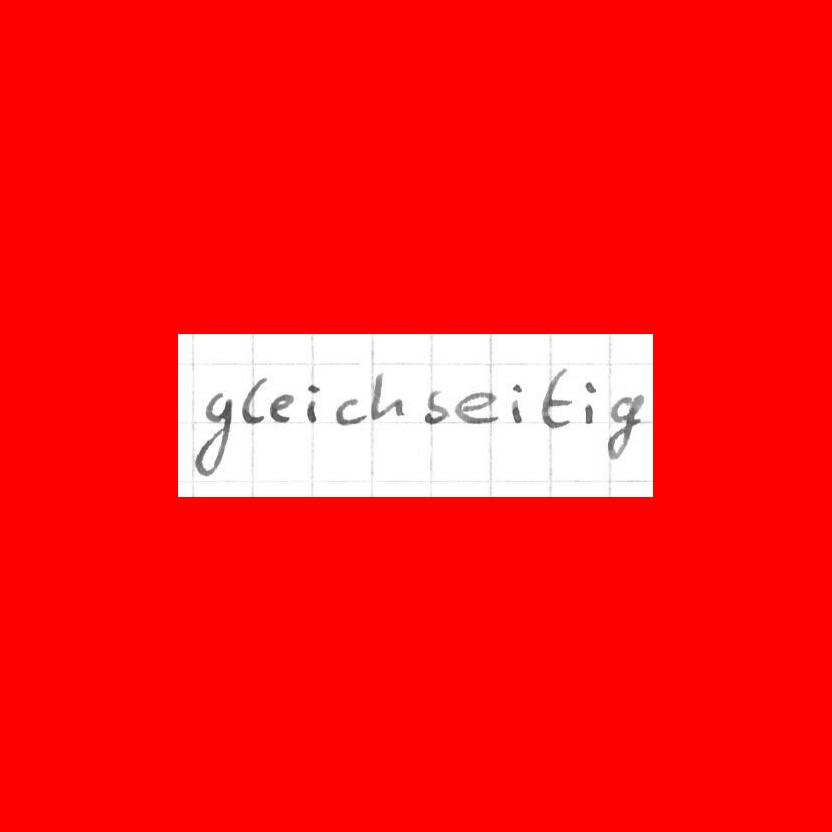Char: (192, 392, 234, 481), (605, 388, 645, 466), (539, 364, 573, 431), (370, 369, 406, 422), (454, 390, 498, 427), (240, 373, 268, 425), (421, 388, 449, 426), (335, 395, 364, 426), (304, 381, 323, 426), (581, 377, 597, 428), (508, 380, 525, 426), (270, 392, 295, 423)
